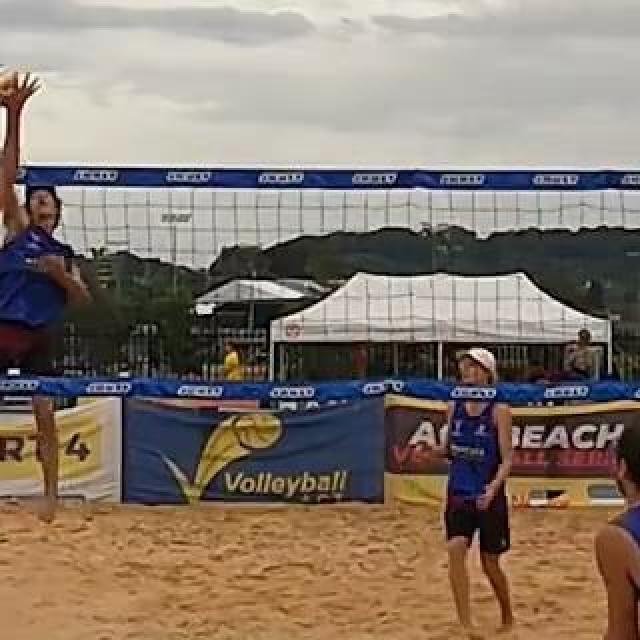volleyball: (0, 62, 18, 108)
